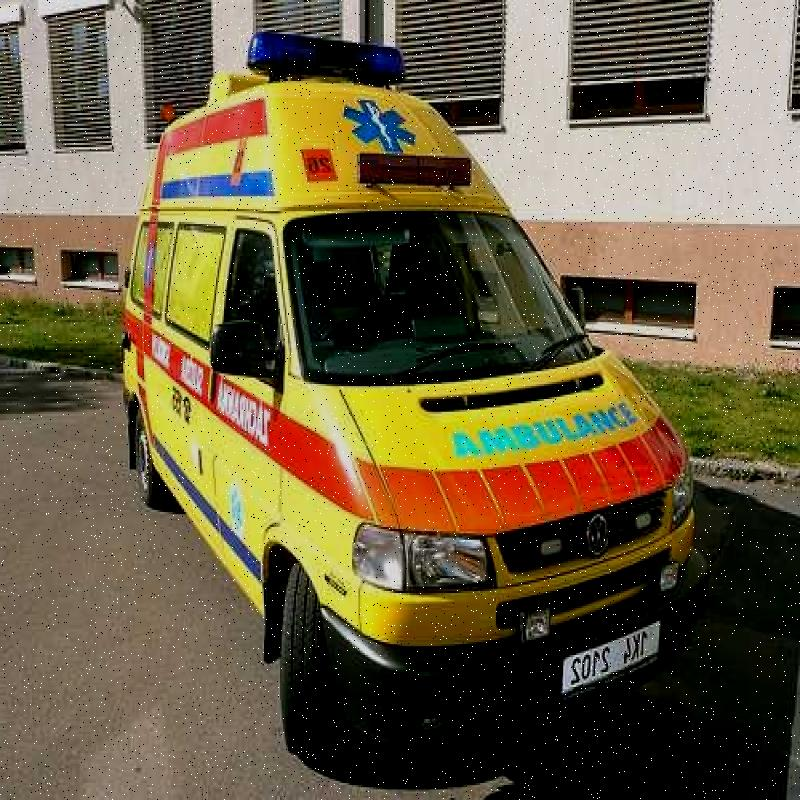AmbulanceSiren: (240, 20, 426, 103)
